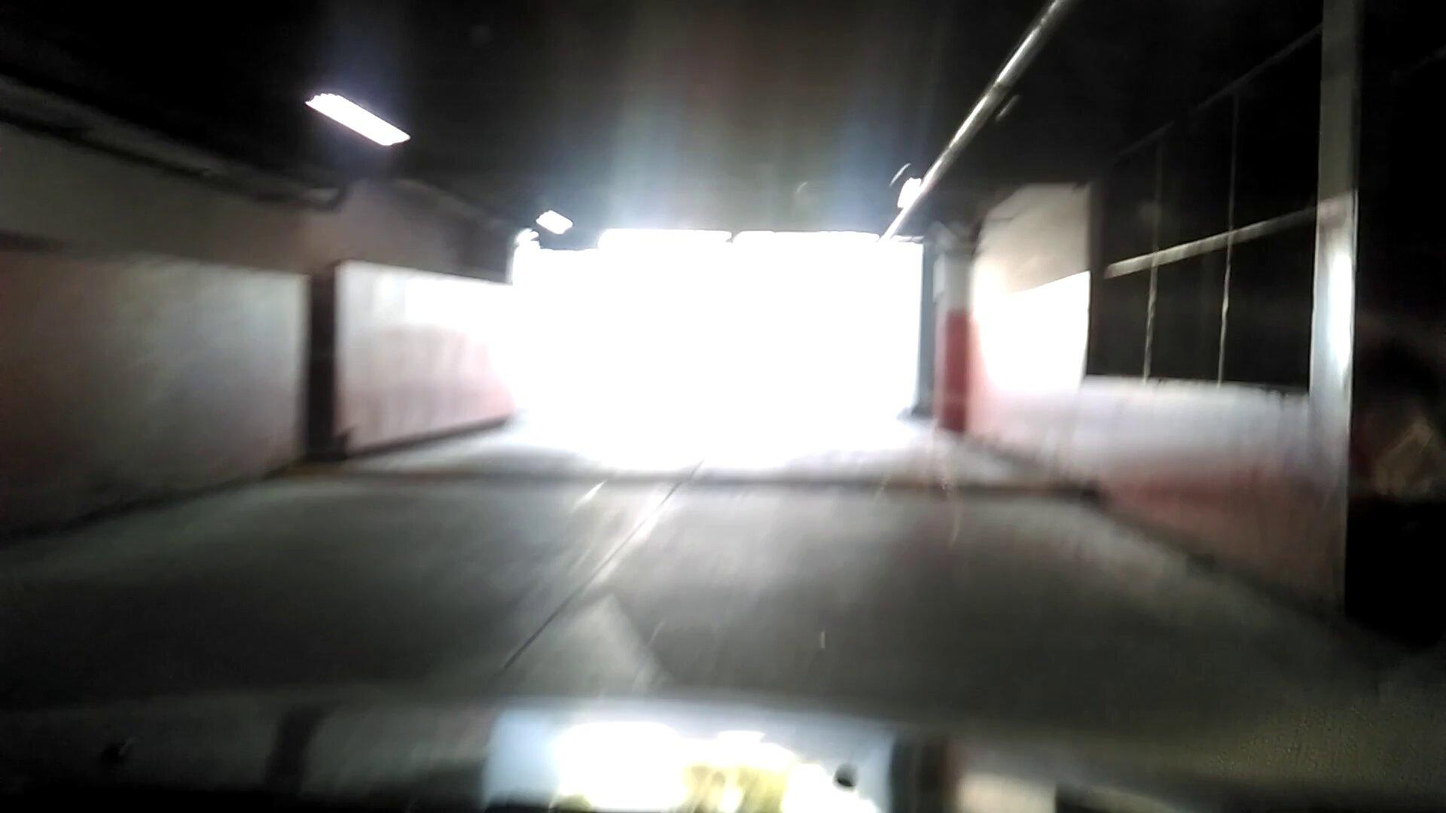Bump: (309, 455, 1090, 514)
